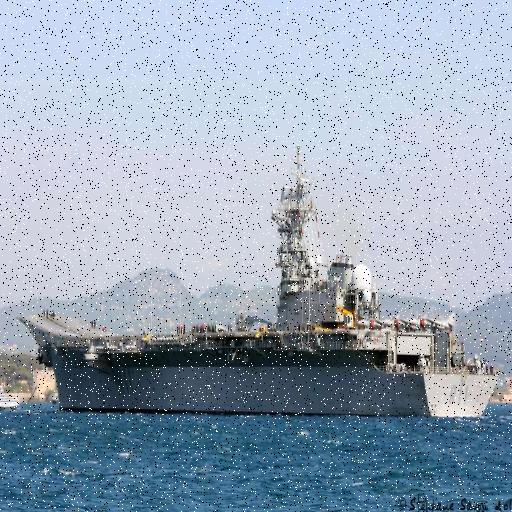Portanaves: (12, 138, 503, 416)
